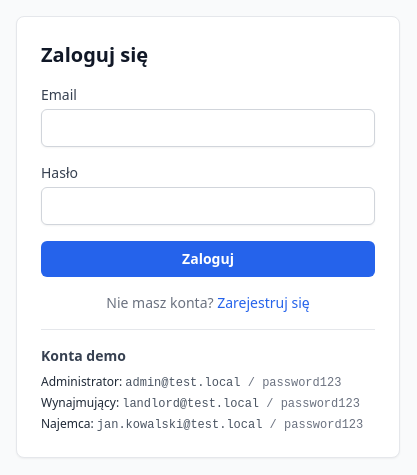
LoginPage (integration) › shows loading state during submission
Type "test@example.com" into the field labelled "Email" at (208, 128), box x1=41 y1=109 x2=375 y2=147
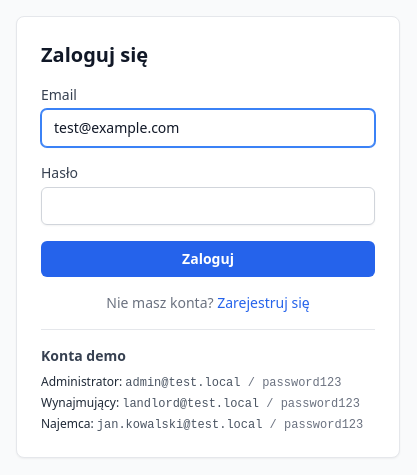
Type "password123" into the password field labelled "Hasło" at (208, 206), box x1=41 y1=187 x2=375 y2=225
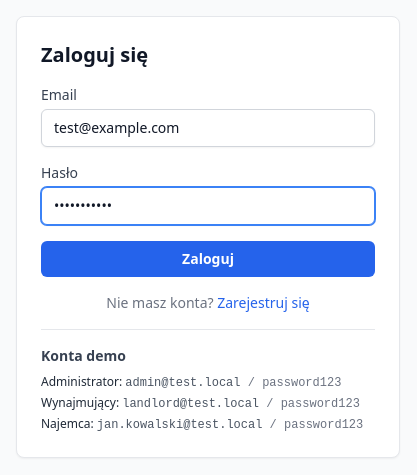
Click the button "Zaloguj" at (208, 259), box x1=41 y1=241 x2=375 y2=277
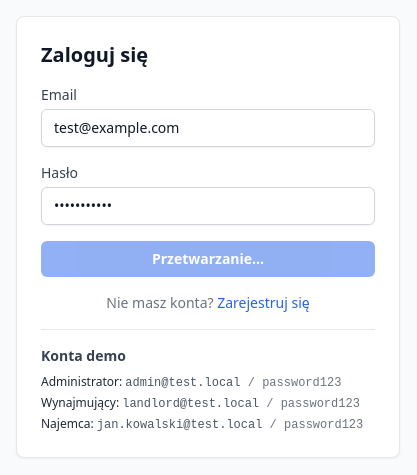
Now the button "Przetwarzanie..." is disabled, box x1=41 y1=241 x2=375 y2=277
